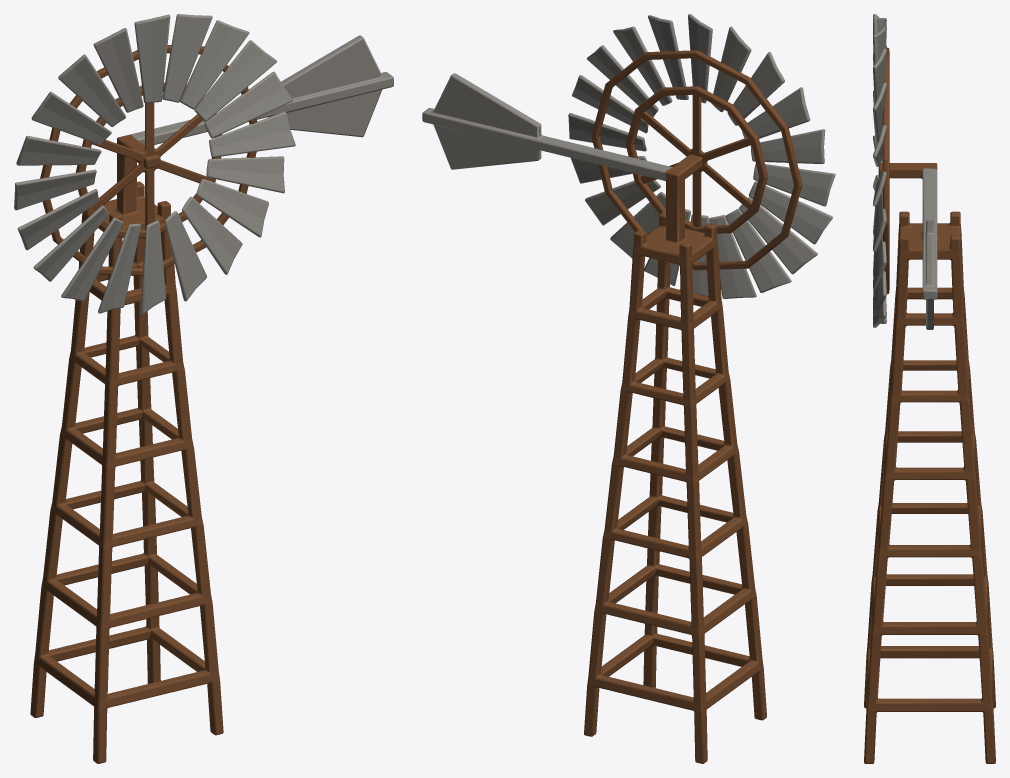
The model's file is farm_windmill_01.glb.
3 views of the same model, side by side, from view 1: azimuth 30°, elevation 25°; view 2: azimuth 150°, elevation 25°; view 3: azimuth 270°, elevation 25° (orthographic). The views are drawn at different scales.
Parts seen in each view (by area): view 1: farm_windmill_01; view 2: farm_windmill_01; view 3: farm_windmill_01.
Boxes of the visible parts, bbox=[...] form: farm_windmill_01: bbox=[14, 14, 393, 763]; farm_windmill_01: bbox=[422, 14, 835, 763]; farm_windmill_01: bbox=[864, 14, 995, 763].
Bounding box in the file's own units: 6.5 × 11.19 × 1.9.
